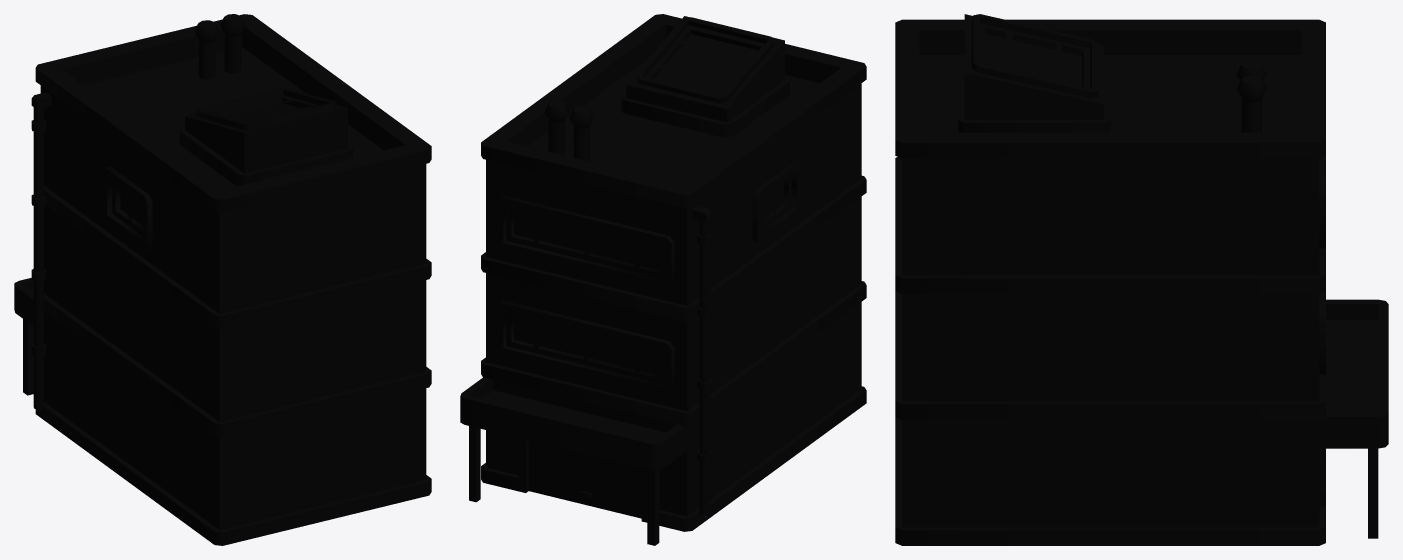
Rendered from building-d.glb.
The picture shows the model from 3 angles, left to right: view 1: azimuth 30°, elevation 25°; view 2: azimuth 150°, elevation 25°; view 3: azimuth 270°, elevation 25°; orthographic projection. The views are drawn at different scales.
Visible parts, largest first — view 1: building-d; view 2: building-d; view 3: building-d.
Boxes of the visible parts, x1,y1,x2,y2 form: building-d: (14, 14, 431, 545); building-d: (460, 14, 866, 545); building-d: (895, 14, 1388, 545).
Bounding box in the file's own units: 0.8836 × 1.41 × 1.42.
1 material, 1 textured.
